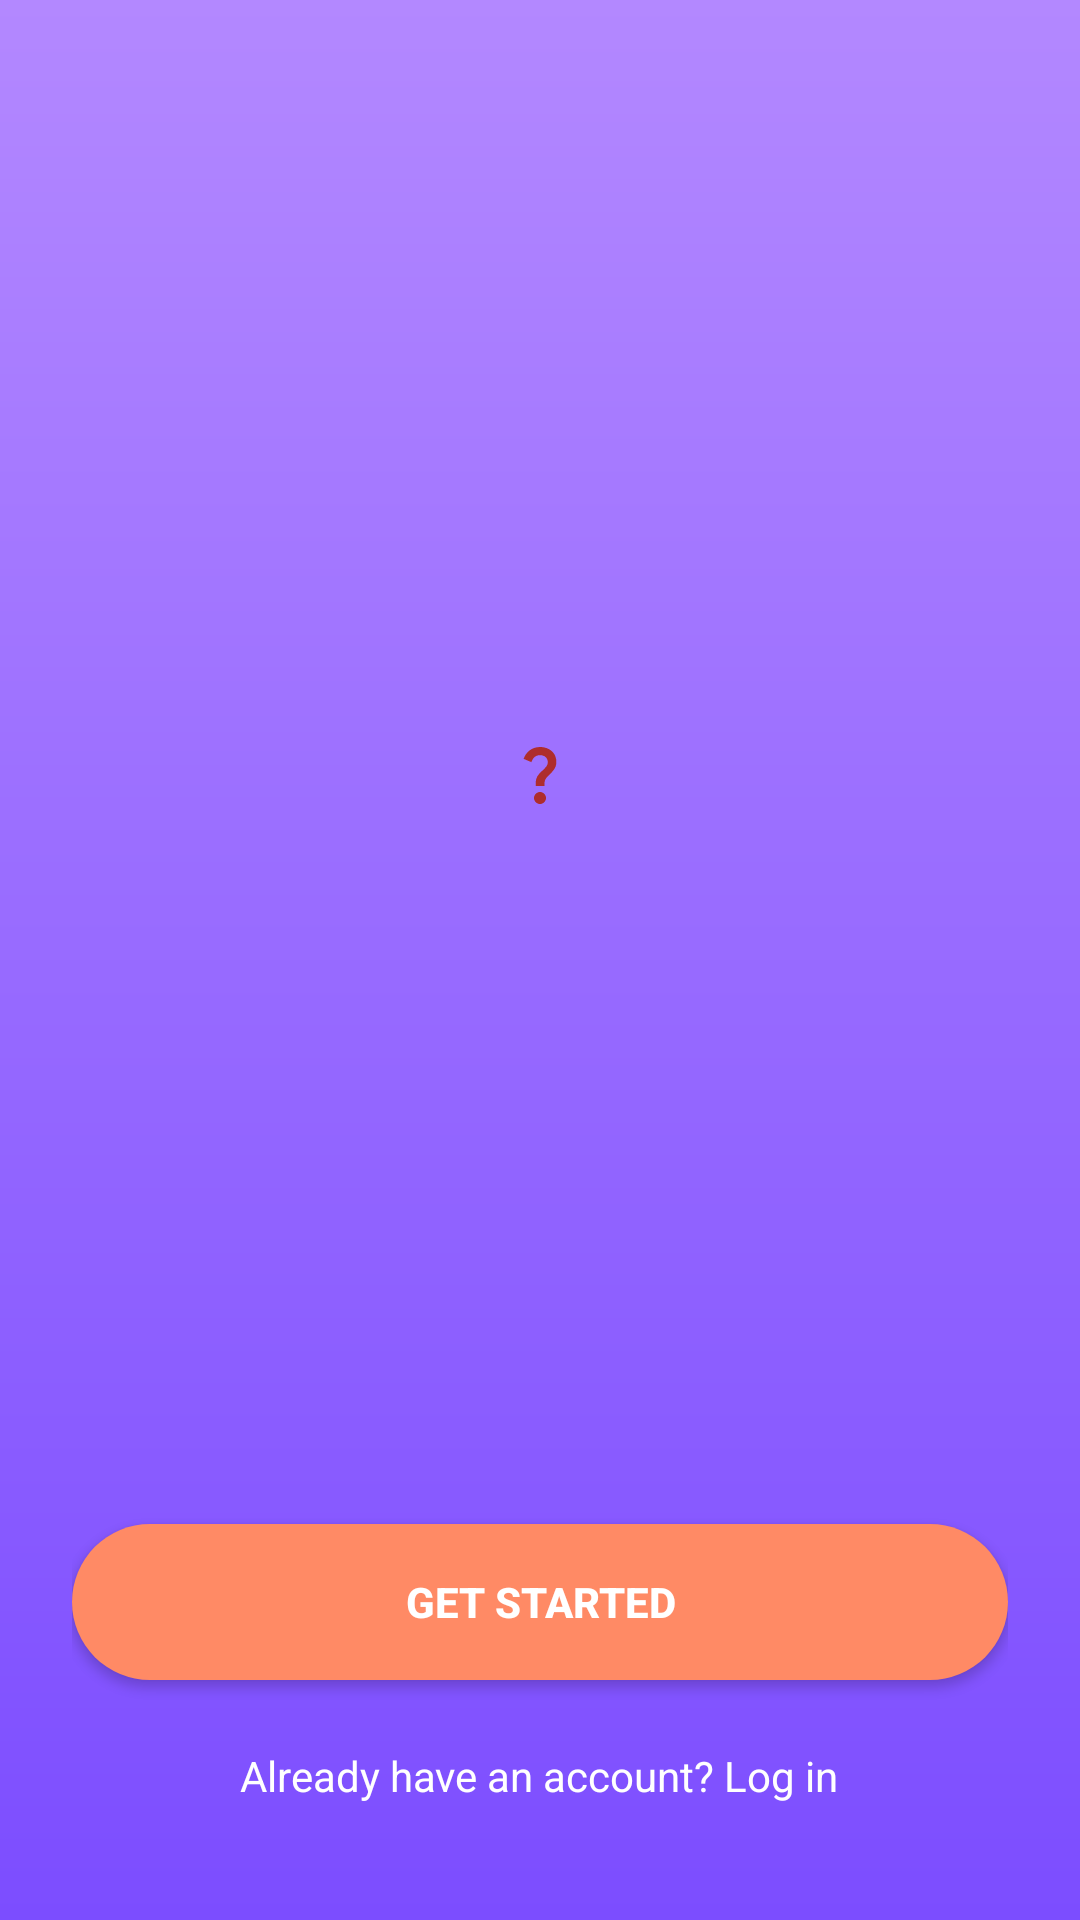

Icon bounding boxes for this 1080 × 1920 phone screenshot, format BBox(x1, y1, x2, y2):
Question Marks: BBox(523, 747, 557, 804)
